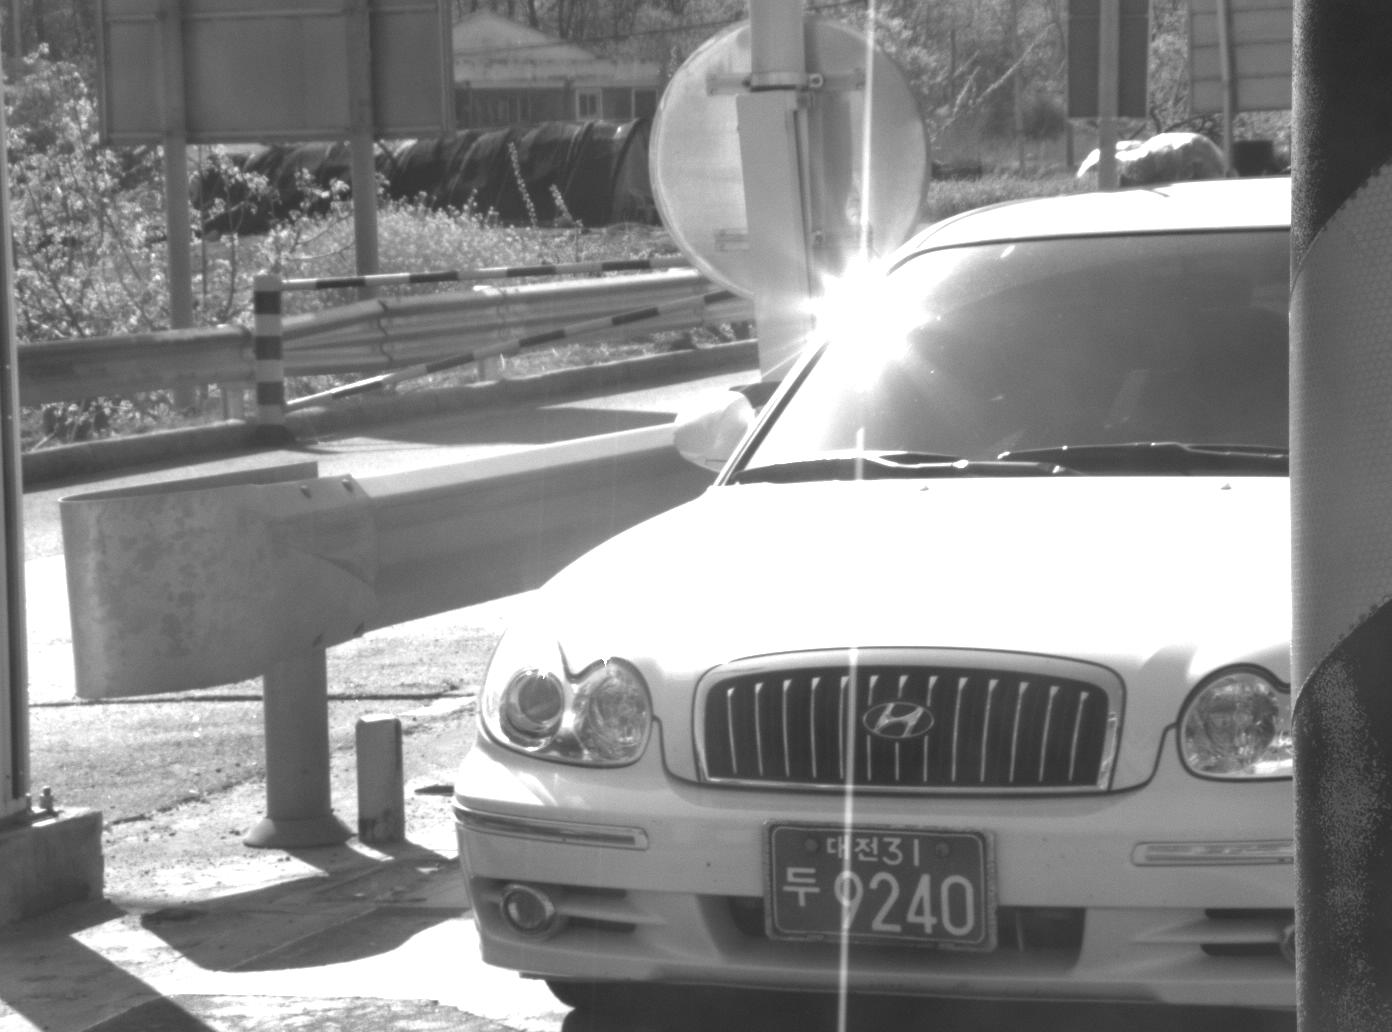car: (454, 174, 1293, 1024)
plate: (763, 820, 996, 951)
